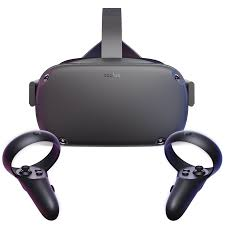oculus: (28, 53, 196, 153)
